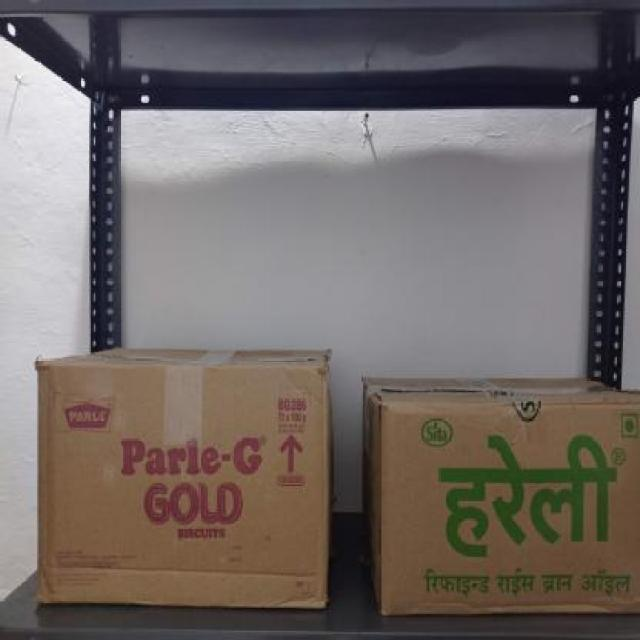box: (35, 360, 332, 612), (380, 399, 640, 613)
